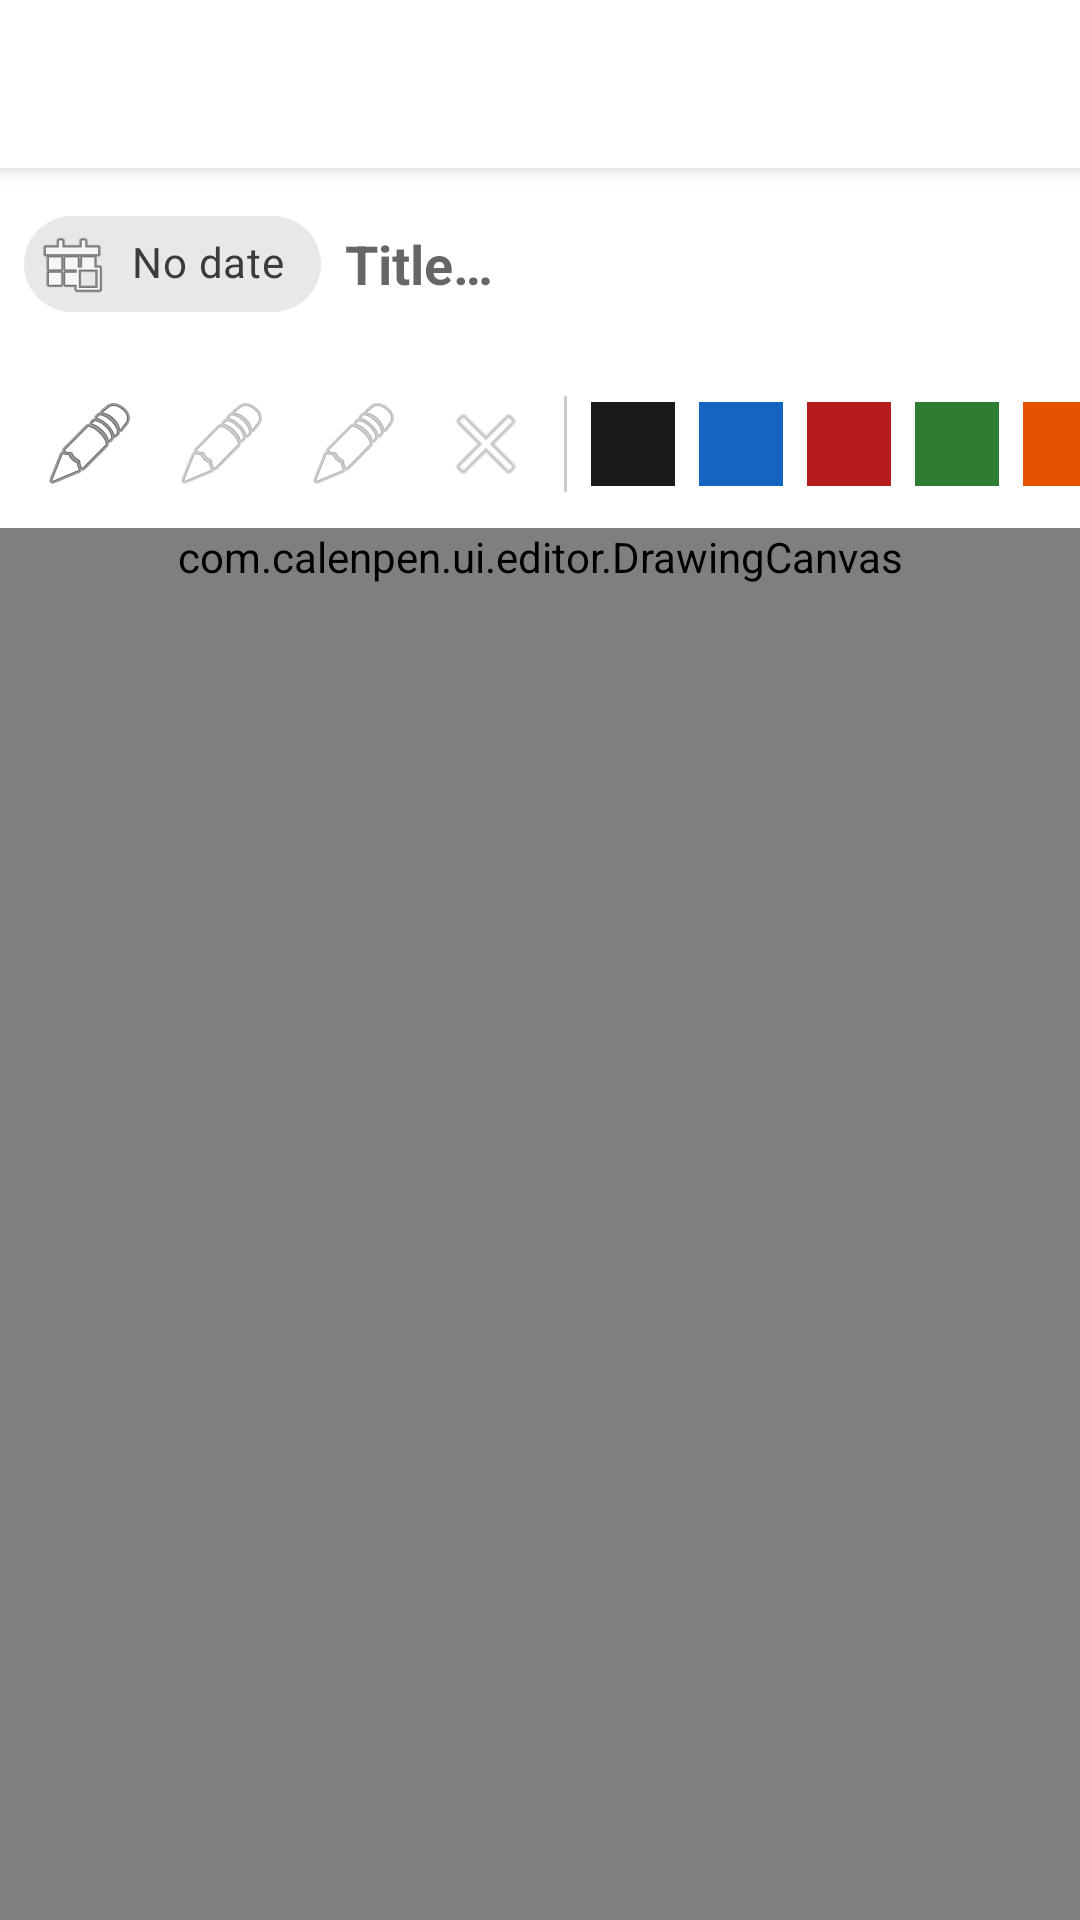

Icons on this 1080*1920 Android screen, each with its box as (x1, y1, x2, y2):
Pen: (49, 403, 130, 484)
Pencil: (181, 403, 262, 484)
